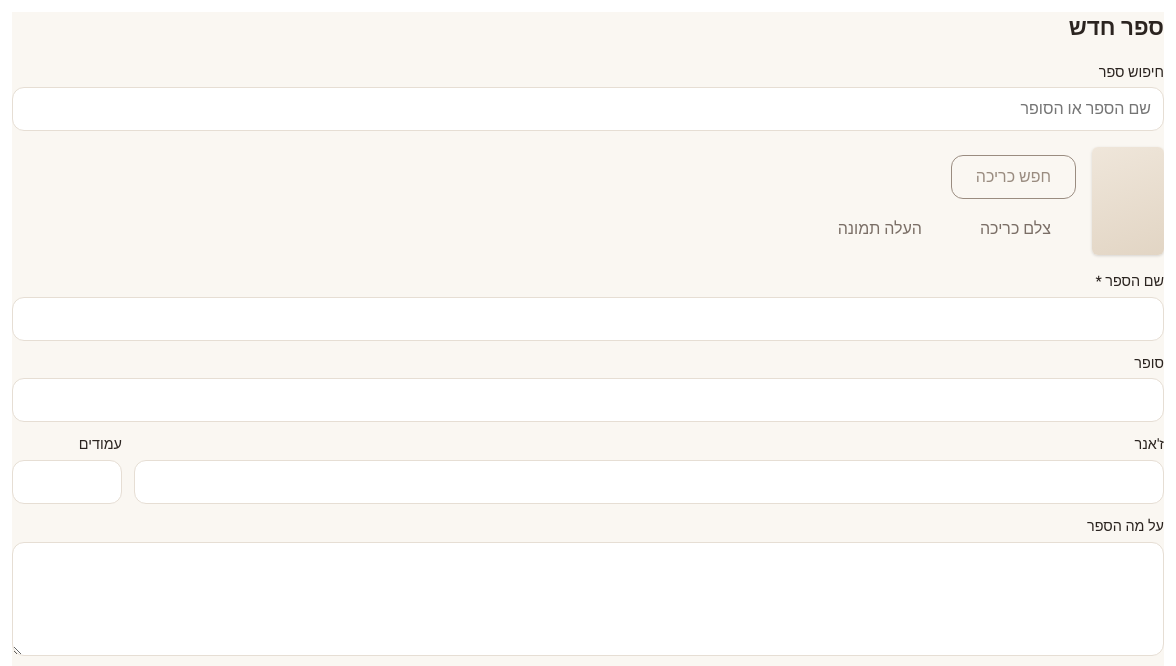
Scenario: NewBook › shows the source of each result
The image size is (1176, 666).
Type "dune" into the search field at (588, 109), box x1=12 y1=87 x2=1164 y2=131
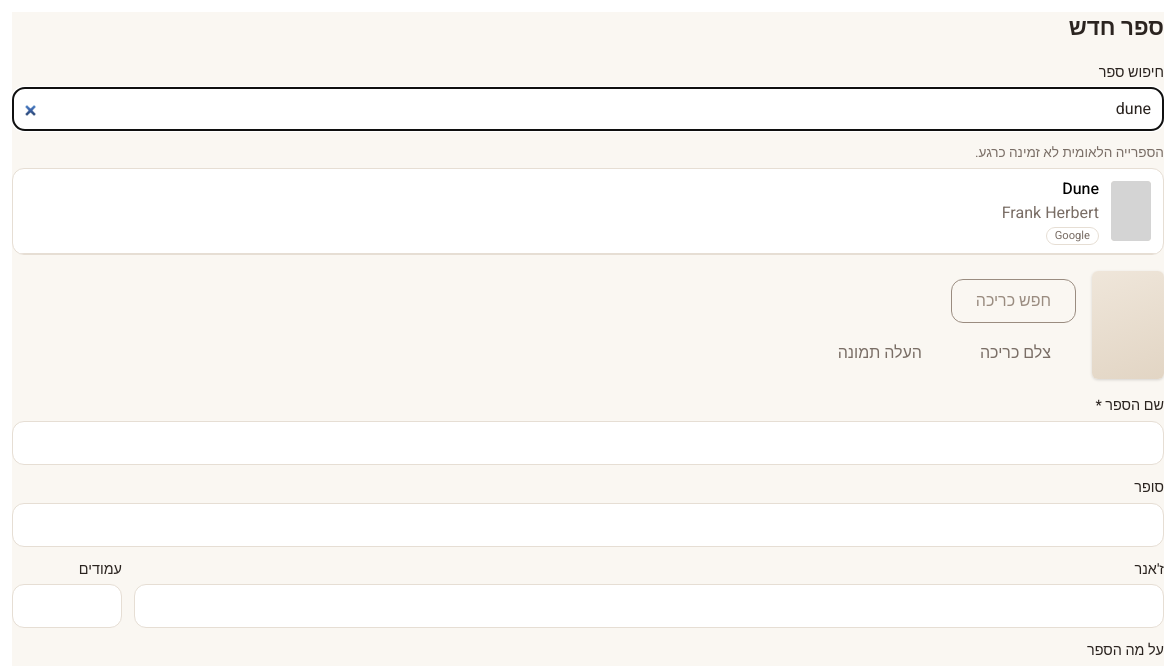
Result: the text "Google" is shown at x1=1046 y1=227 x2=1099 y2=245
